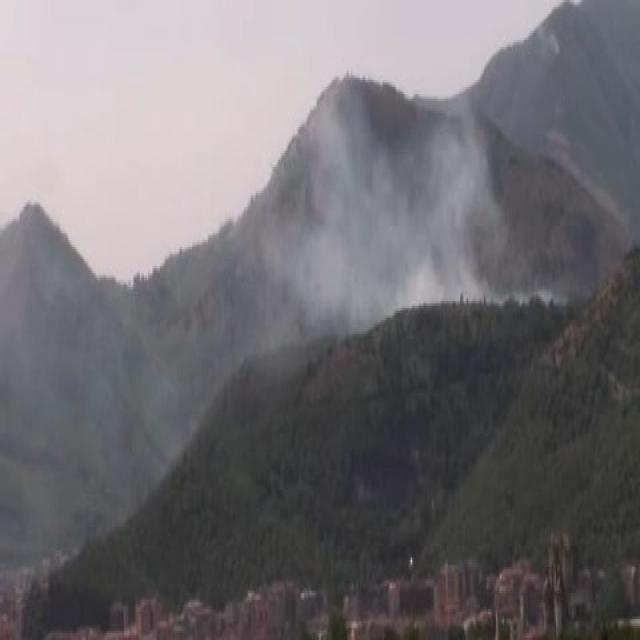smoke: (321, 109, 490, 300)
